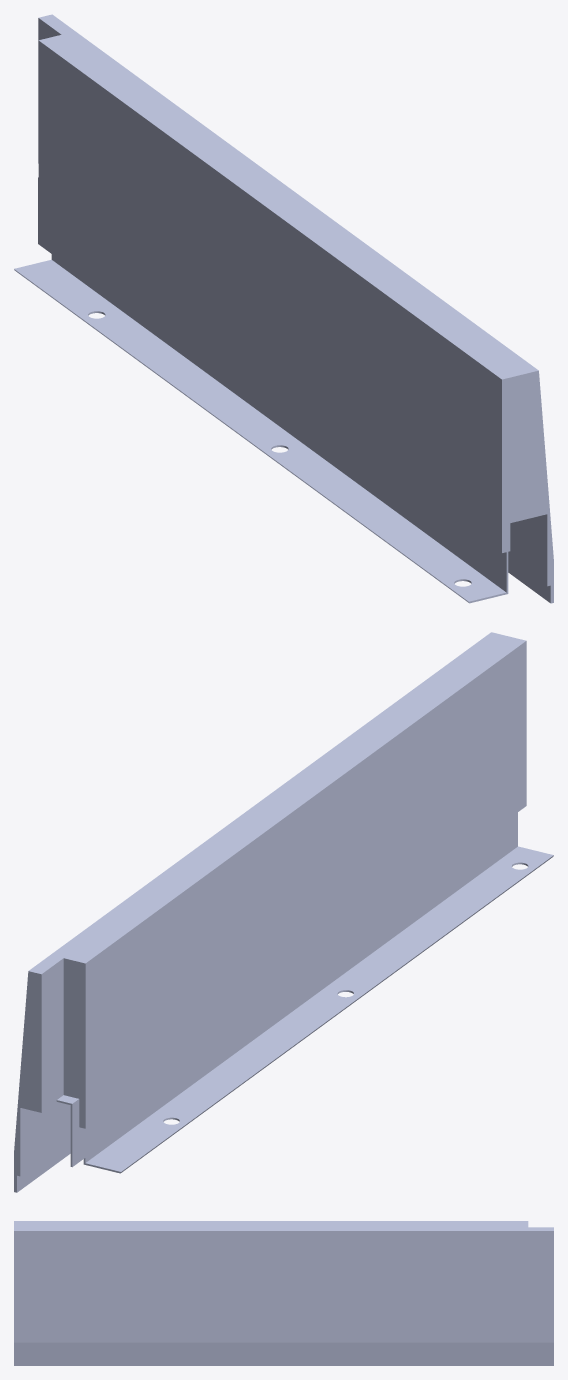
File: mv-kava-M350-m.glb
3 renders of one model, top to bottom at view 1: azimuth 30°, elevation 25°; view 2: azimuth 150°, elevation 25°; view 3: azimuth 270°, elevation 25°, orthographic. The views are drawn at different scales.
Parts seen in each view (by area): view 1: 45935379; view 2: 45935379; view 3: 45935379.
Part boxes in pixels (<box>): 45935379: <box>14,14,553,603</box>; 45935379: <box>14,632,553,1192</box>; 45935379: <box>14,1221,553,1365</box>.
Size of the model in its own units: 0.0335 by 0.091 by 0.3402.
